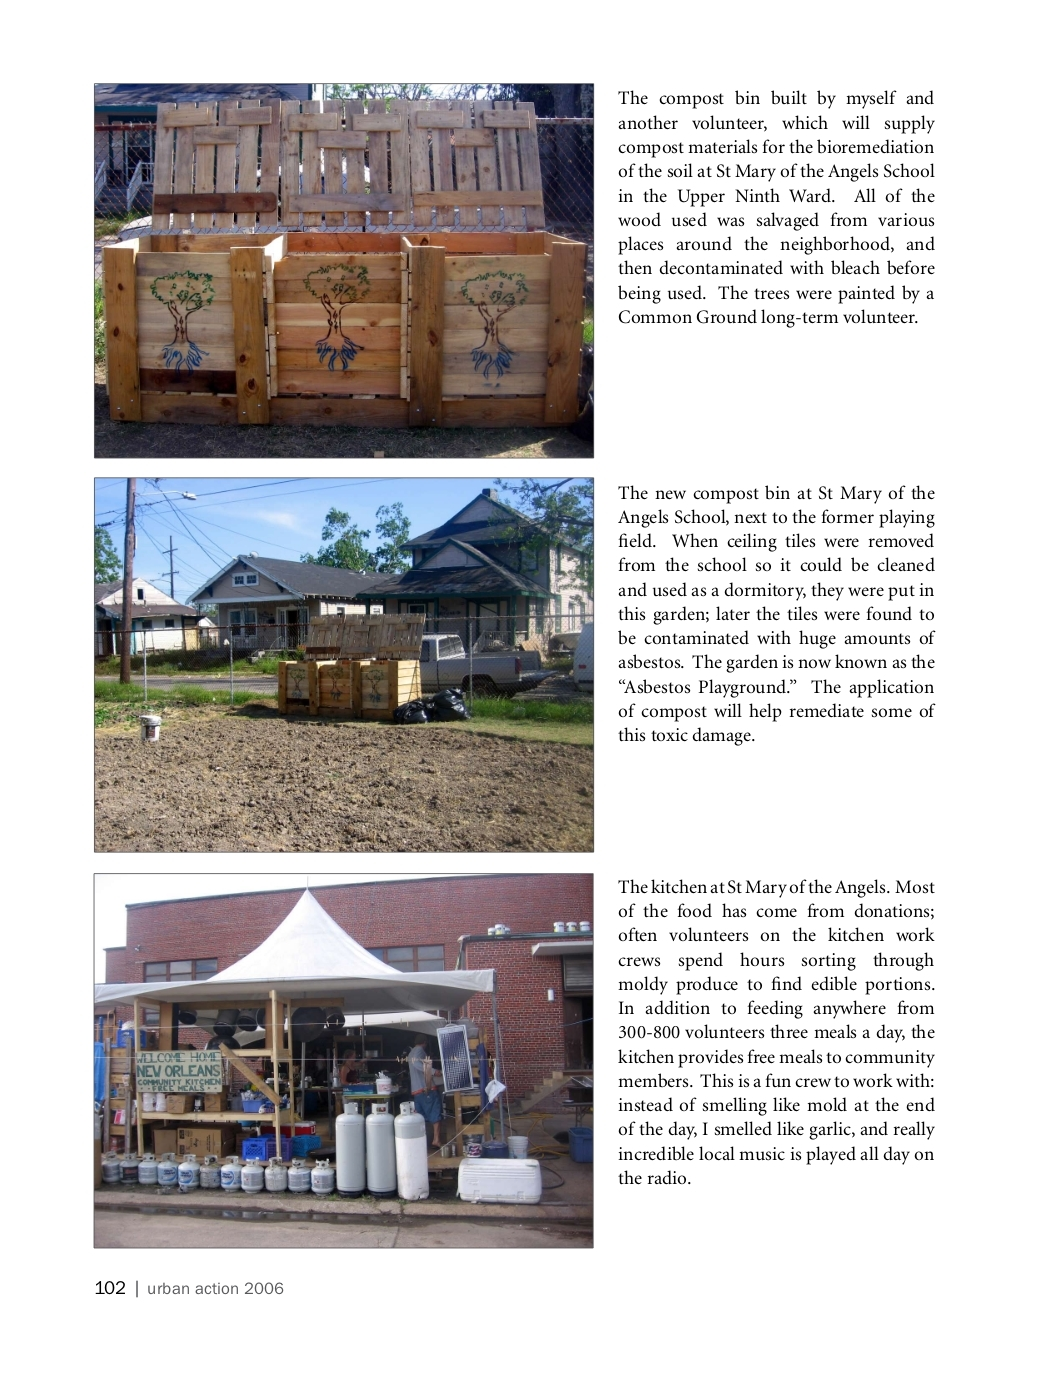figure: (93, 82, 594, 458), (93, 477, 594, 853), (93, 873, 593, 1248)
